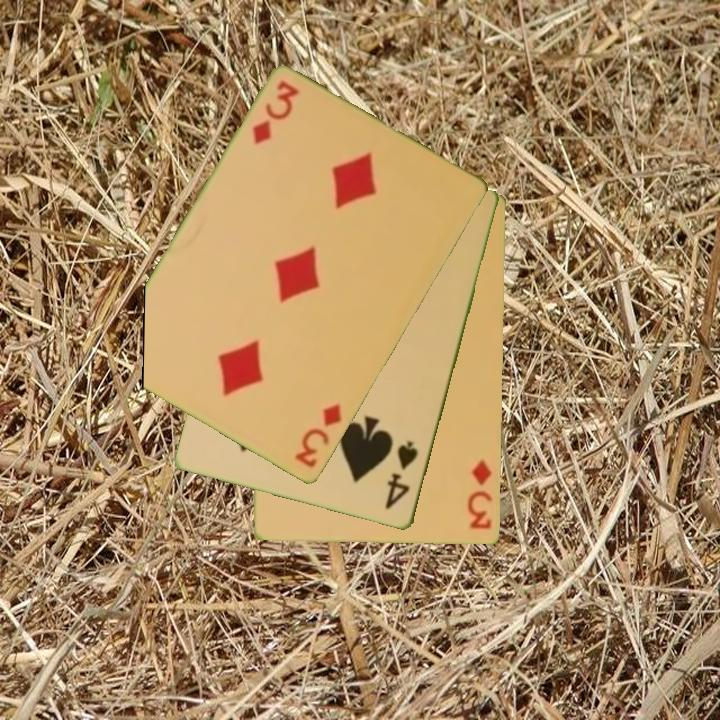3d: (291, 400, 346, 472), (248, 77, 303, 148), (465, 457, 496, 532)
4s: (382, 438, 421, 514)
